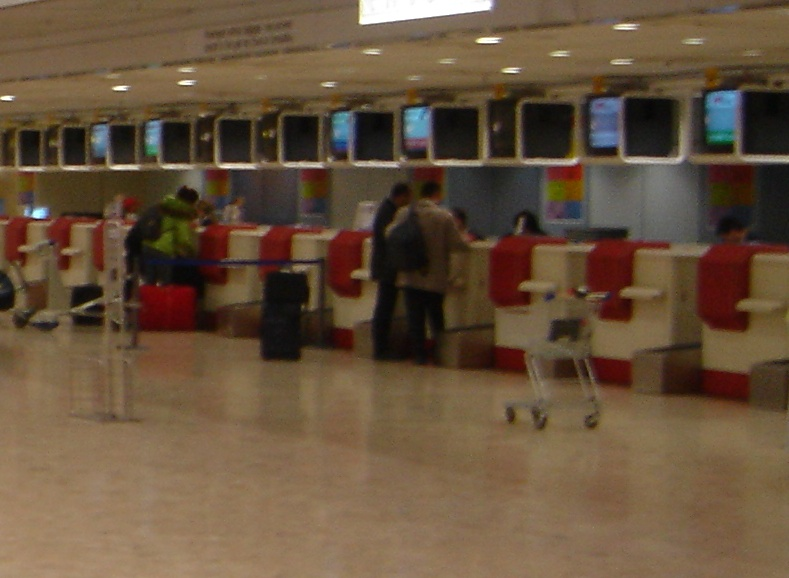person: (397, 180, 457, 366)
